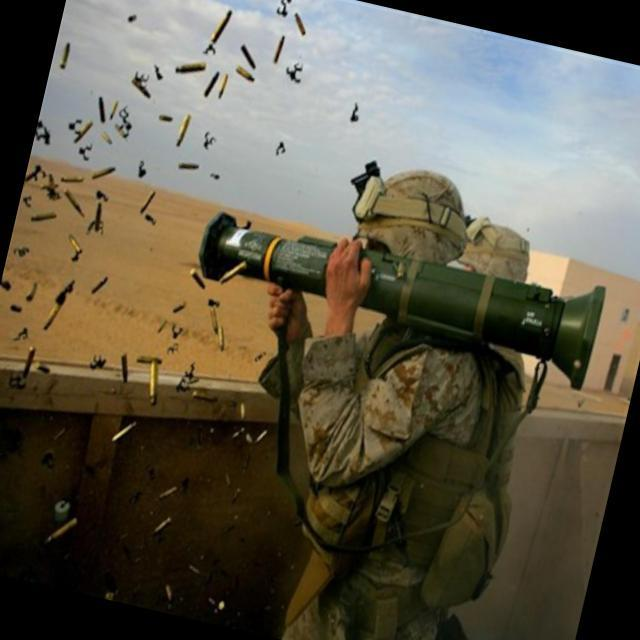rocket: (190, 180, 616, 399)
